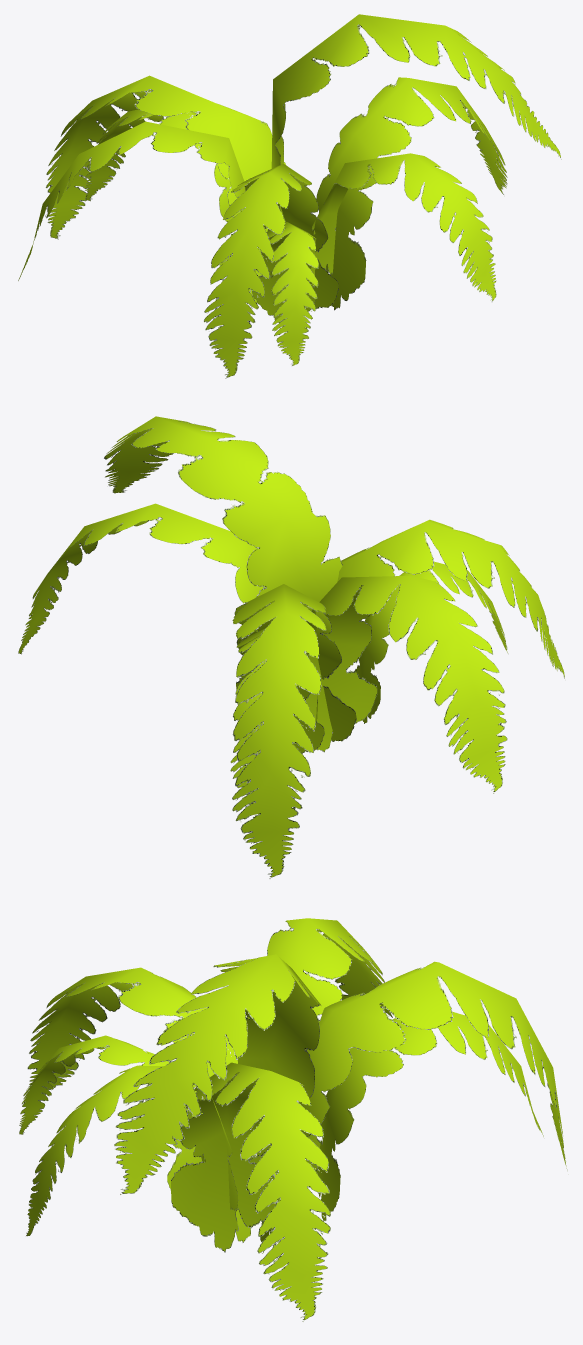
File: fern3.obj
The picture shows the model from 3 angles, top to bottom: view 1: azimuth 30°, elevation 25°; view 2: azimuth 150°, elevation 25°; view 3: azimuth 270°, elevation 25°; orthographic projection. The views are drawn at different scales.
Parts seen in each view (by area): view 1: bush_fern_joined.001_Plane.000; view 2: bush_fern_joined.001_Plane.000; view 3: bush_fern_joined.001_Plane.000.
Part boxes in pixels (bbox=[...]): bush_fern_joined.001_Plane.000: bbox=[18, 14, 561, 378]; bush_fern_joined.001_Plane.000: bbox=[18, 416, 564, 878]; bush_fern_joined.001_Plane.000: bbox=[19, 918, 567, 1321].
Size of the model in its own units: 6.58 by 3.77 by 5.61.
Materials: 1 (1 with a texture image).
